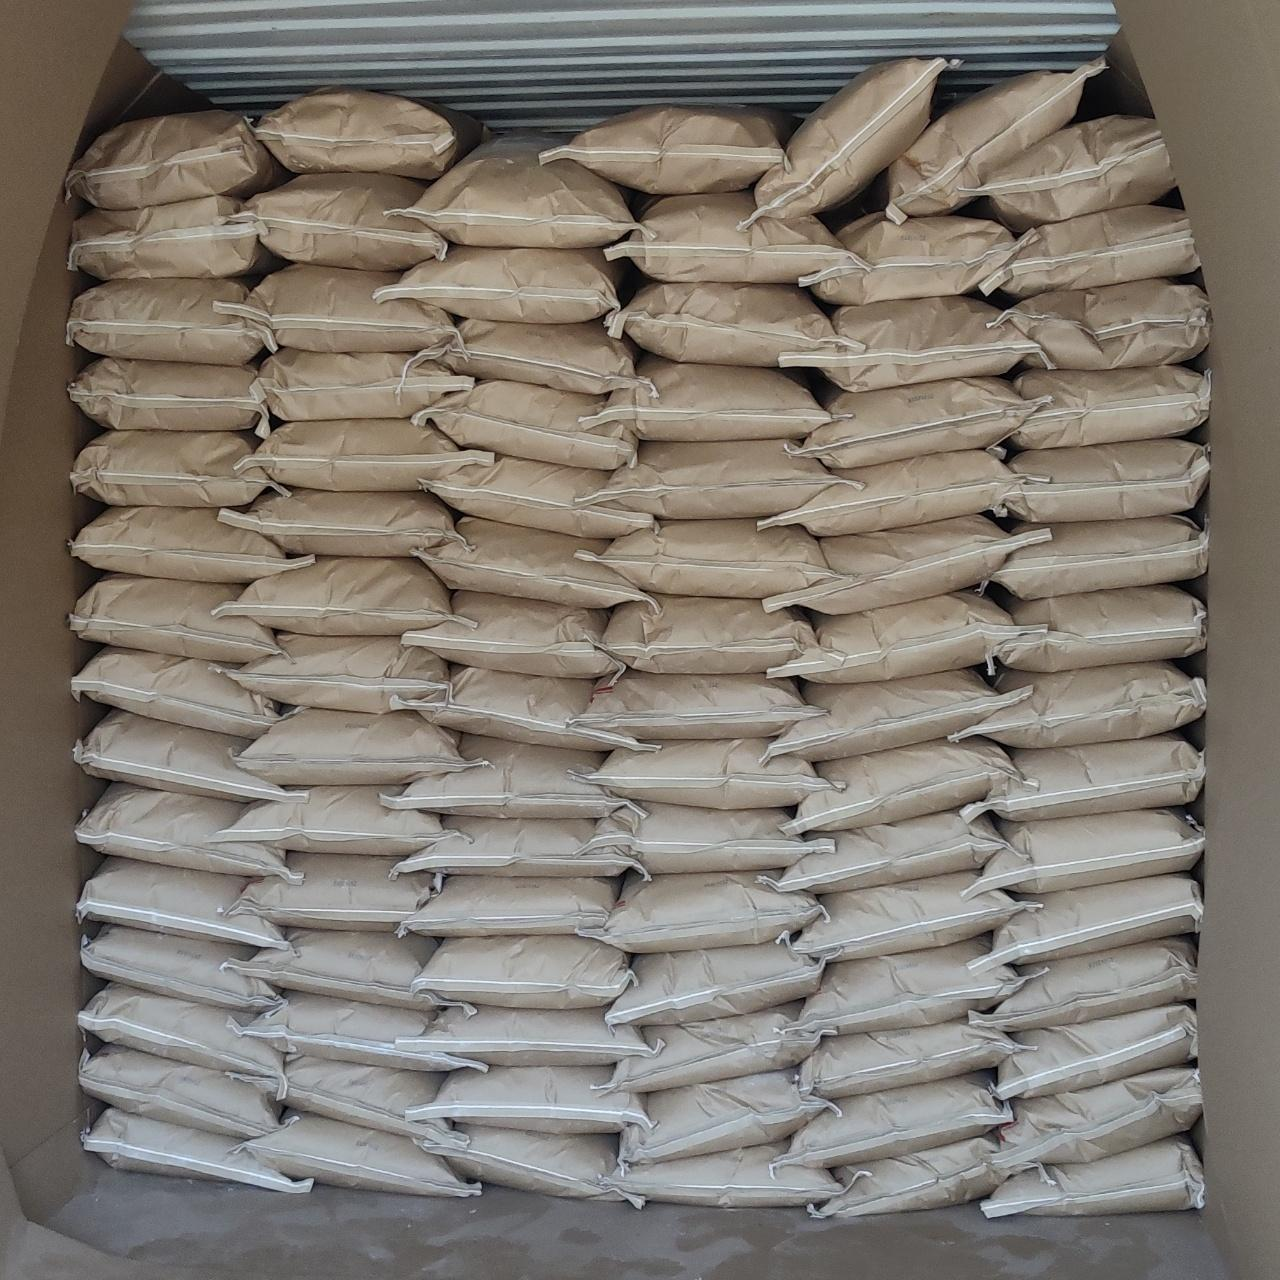sack: (737, 57, 959, 230), (886, 61, 1103, 220), (763, 515, 1050, 614), (387, 142, 642, 247), (784, 934, 1029, 1041), (768, 591, 1046, 683), (779, 737, 1039, 835), (762, 669, 1032, 761), (779, 297, 1039, 392), (226, 1055, 468, 1156), (605, 191, 869, 282), (79, 983, 286, 1099), (969, 115, 1176, 231), (787, 377, 1041, 471), (542, 105, 799, 195), (392, 665, 655, 751), (75, 783, 301, 884), (381, 735, 647, 821), (760, 448, 1017, 536), (579, 440, 863, 519), (967, 874, 1201, 971), (961, 806, 1204, 899), (776, 1073, 1012, 1167), (222, 930, 476, 1017), (990, 1067, 1201, 1172), (960, 731, 1203, 823), (792, 871, 1041, 960), (949, 661, 1204, 748), (799, 212, 1037, 305), (74, 708, 308, 802), (761, 811, 1024, 893), (605, 282, 864, 366), (971, 937, 1196, 1032), (411, 516, 641, 608), (227, 992, 490, 1073), (213, 264, 455, 352), (67, 110, 282, 207), (213, 557, 476, 635), (232, 173, 445, 270), (985, 278, 1208, 369), (256, 90, 482, 181), (402, 319, 658, 399), (601, 1006, 836, 1092), (411, 380, 636, 470), (619, 1071, 838, 1164), (576, 520, 837, 598), (588, 356, 828, 441), (982, 205, 1199, 298), (82, 1107, 312, 1193), (77, 858, 291, 951), (70, 574, 290, 663), (577, 872, 821, 952), (422, 456, 659, 538), (401, 590, 621, 678), (243, 1115, 481, 1196), (234, 707, 478, 785), (72, 647, 279, 738), (377, 246, 622, 324), (234, 418, 493, 491), (998, 1005, 1196, 1099), (72, 508, 314, 584), (981, 1135, 1203, 1217), (583, 802, 832, 874), (80, 1046, 278, 1137), (996, 585, 1204, 672), (606, 941, 822, 1024), (992, 516, 1207, 599), (67, 280, 277, 365), (212, 787, 472, 855), (441, 1123, 644, 1208), (802, 1020, 1020, 1098), (591, 738, 838, 808), (227, 634, 448, 712), (1001, 438, 1208, 520), (600, 595, 815, 674), (406, 1065, 653, 1133), (578, 670, 819, 740), (82, 925, 277, 1010), (806, 1133, 1003, 1218), (1012, 365, 1208, 448), (595, 1141, 840, 1207), (252, 347, 474, 421), (72, 431, 290, 506), (70, 197, 268, 279), (68, 358, 268, 438), (392, 816, 649, 878), (227, 853, 437, 930), (411, 937, 634, 1007), (395, 1006, 652, 1065), (219, 491, 457, 556), (401, 876, 618, 937)
